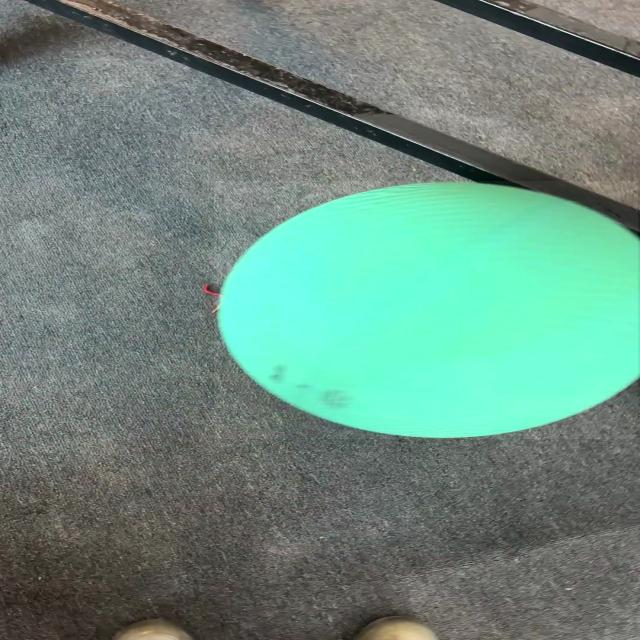Algae: (214, 181, 638, 439)
